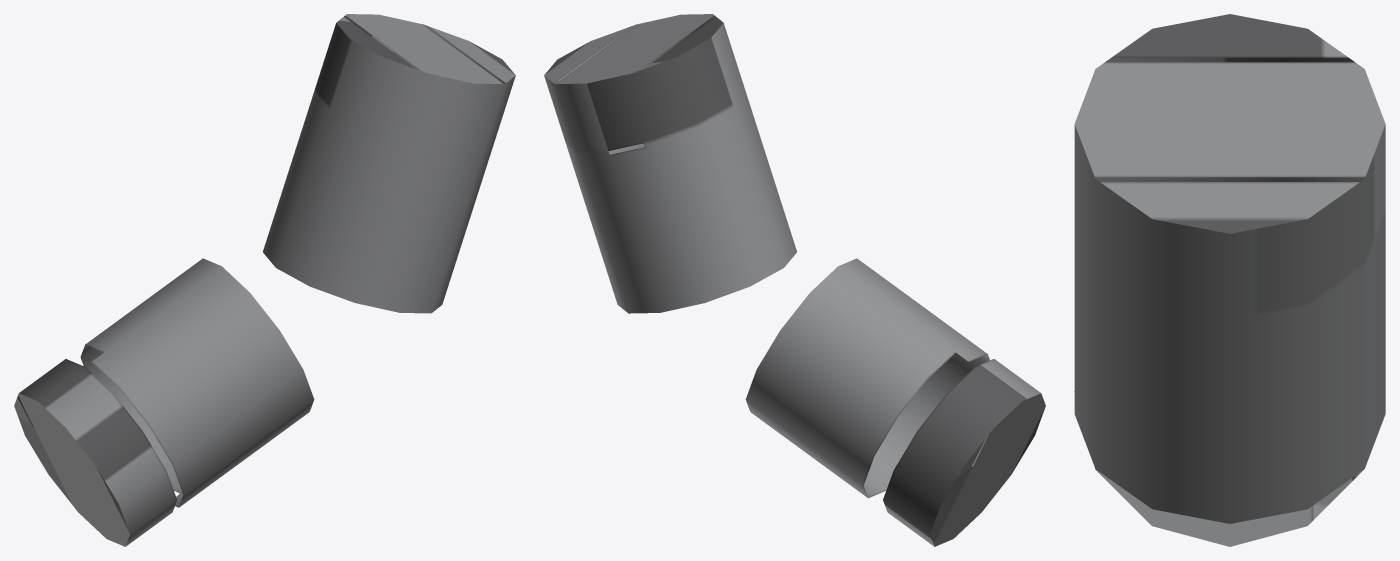
3 views of the same model, side by side, from view 1: azimuth 30°, elevation 25°; view 2: azimuth 150°, elevation 25°; view 3: azimuth 270°, elevation 25° (orthographic). The views are drawn at different scales.
Size of the model in its own units: 0.6338 by 0.5744 by 0.2223.
